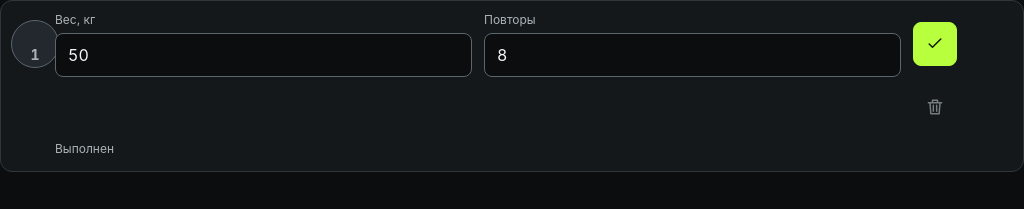
Test: workout editing controls › edits a completed set inline without changing completion
Replace the text in the field named "Вес, подход 1" with "52.5". click: coordinates (264, 55)
box: [55,33,472,77]
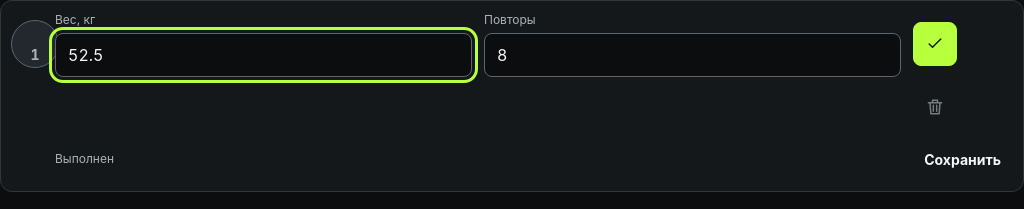
Click the button with aria-label "Сохранить подход 1". click: coordinates (963, 159)
box: [912,137,1013,181]
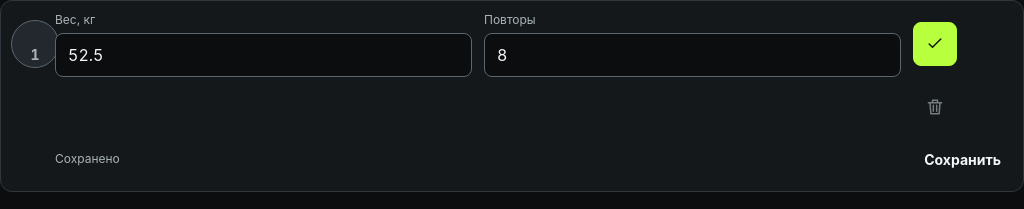
Result: the text "Сохранено" is shown at [55,150,120,168]
